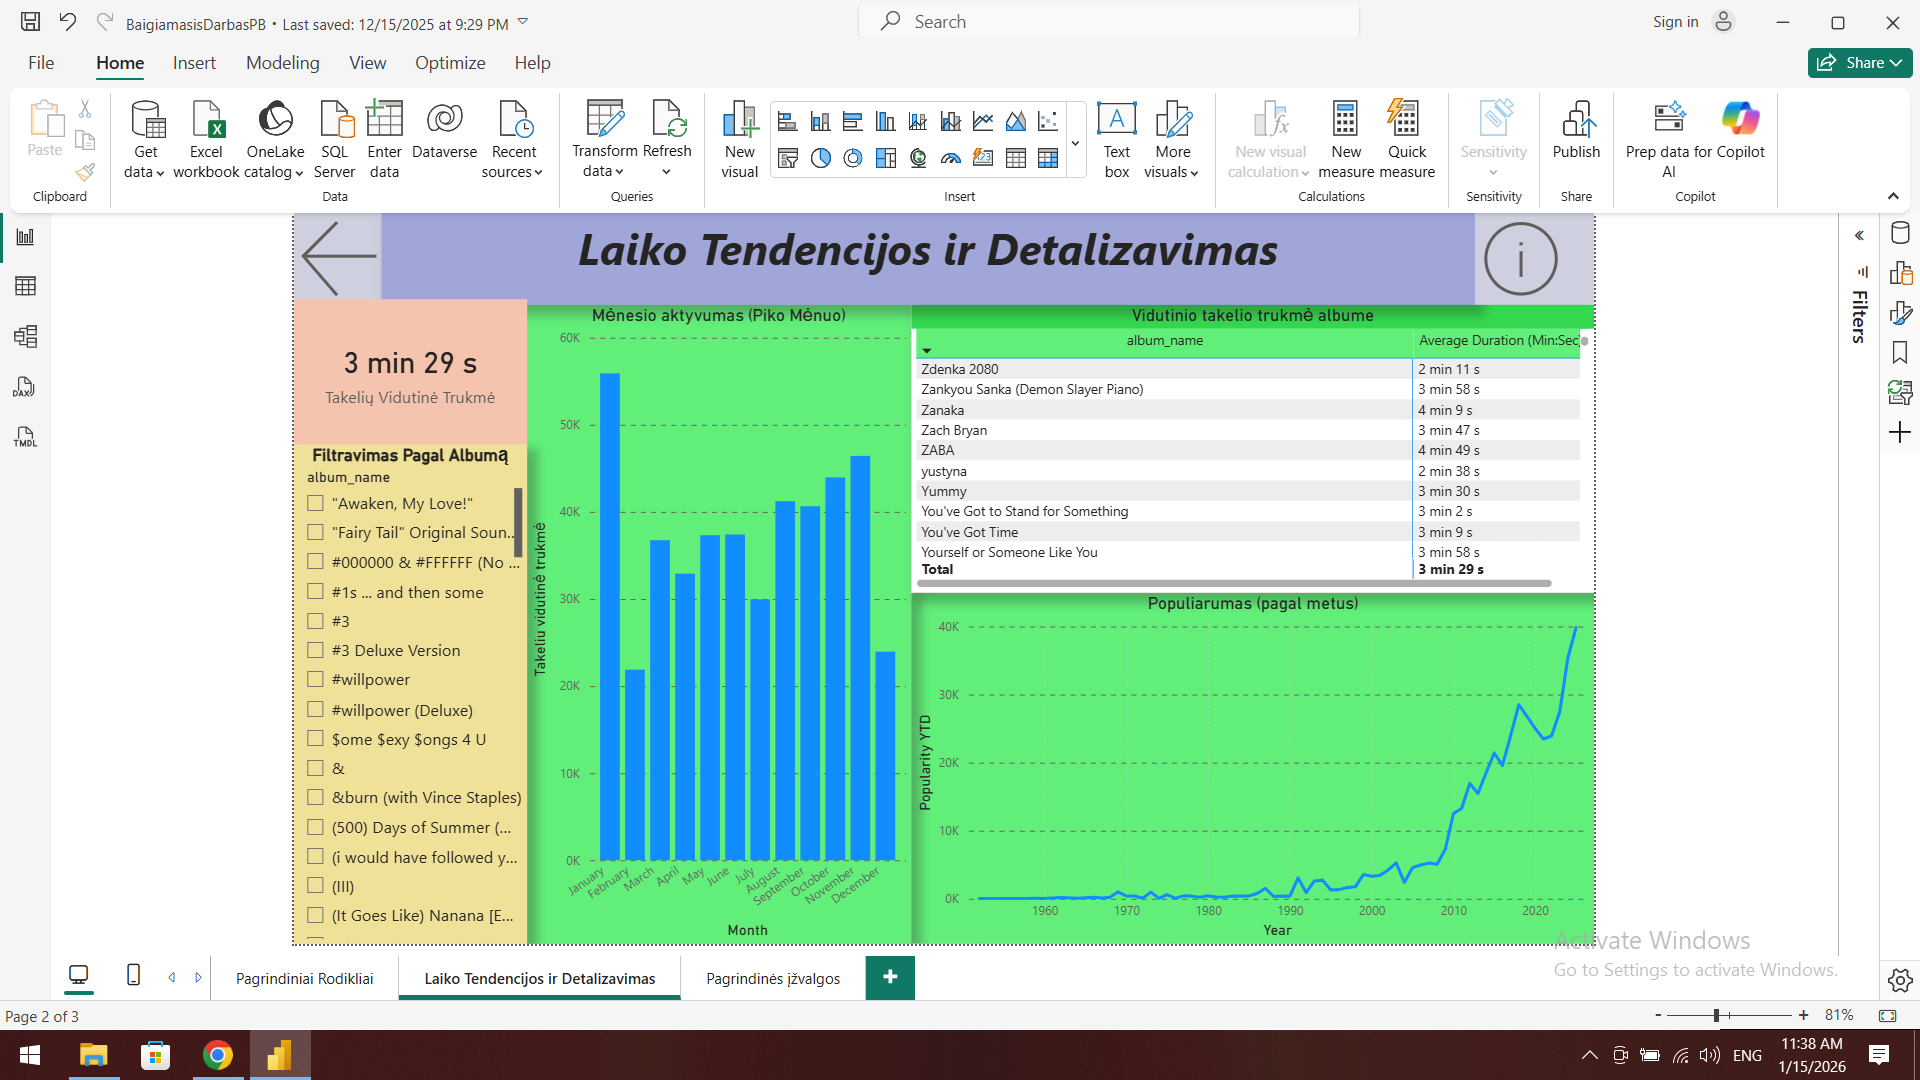

Layout of this report page (visuals, bound fields, positions):
{"tool":"powerbi","page":{"name":"Laiko Tendencijos ir Detalizavimas","canvas":[1280,720],"ordinal":1},"visuals":[{"type":"lineChart","title":"Populiarumas (pagal metus)","fields":{"Y":["FactTracks.Popularity YTD"],"Category":["DimDate.Date.Variation.Date Hierarchy.Year"]},"box":[607.8,374.5,672.5,345.1],"z":0},{"type":"clusteredColumnChart","title":"Mėnesio aktyvumas (Piko Mėnuo)","fields":{"Y":["FactTracks.Total Track Popularity"],"Category":["DimDate.Date.Variation.Date Hierarchy.Month"]},"box":[229.4,90.2,378.4,629.4],"z":1000},{"type":"pivotTable","title":"Vidutinio takelio trukmė albume","fields":{"Rows":["DimAlbums.album_name"],"Values":["FactTracks.Average Duration (Min:Sec)"]},"box":[607.8,90.2,672.5,284.3],"z":2000},{"type":"slicer","title":"Filtravimas Pagal Albumą","fields":{"Values":["DimAlbums.album_name"]},"box":[0,227.5,229.4,492.2],"z":3000},{"type":"actionButton","box":[0,0,115.7,90.2],"z":4000},{"type":"textbox","box":[86.3,0,1076.5,90.2],"z":5000},{"type":"actionButton","box":[1162.7,0,117.6,90.2],"z":6000},{"type":"card","fields":{"Values":["FactTracks.Average Duration (Min:Sec)"]},"box":[0,84.3,229.4,143.1],"z":7000}]}

Visuals, with their boxes on the page's 1280x720 design canvas (x1, y1, x2, y2). These are canvas units, not pixel positions in the 1920x1080 screenshot, which may show the page scaled, cropped or inside an application window:
"Populiarumas (pagal metus)" lineChart: [608,374,1280,720]
"Mėnesio aktyvumas (Piko Mėnuo)" clusteredColumnChart: [229,90,608,720]
"Vidutinio takelio trukmė albume" pivotTable: [608,90,1280,374]
"Filtravimas Pagal Albumą" slicer: [0,228,229,720]
actionButton: [0,0,116,90]
textbox: [86,0,1163,90]
actionButton: [1163,0,1280,90]
card - FactTracks.Average Duration (Min:Sec): [0,84,229,227]
